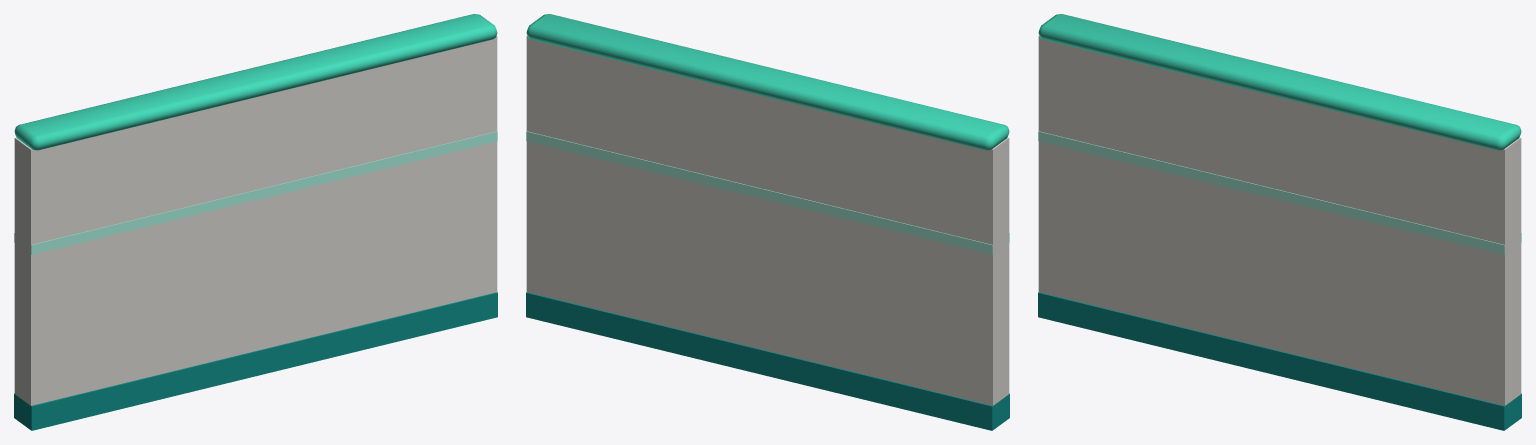
The model's file is partition.glb.
3 views of the same model, side by side, from view 1: azimuth 30°, elevation 25°; view 2: azimuth 150°, elevation 25°; view 3: azimuth 330°, elevation 25° (orthographic).
Parts seen in each view (by area): view 1: Partition; view 2: Partition; view 3: Partition.
Boxes of the visible parts, x1,y1,x2,y2 form: Partition: [14, 14, 497, 430]; Partition: [526, 14, 1009, 430]; Partition: [1038, 14, 1521, 430].
Size of the model in its own units: 2 by 1.2 by 0.16.
